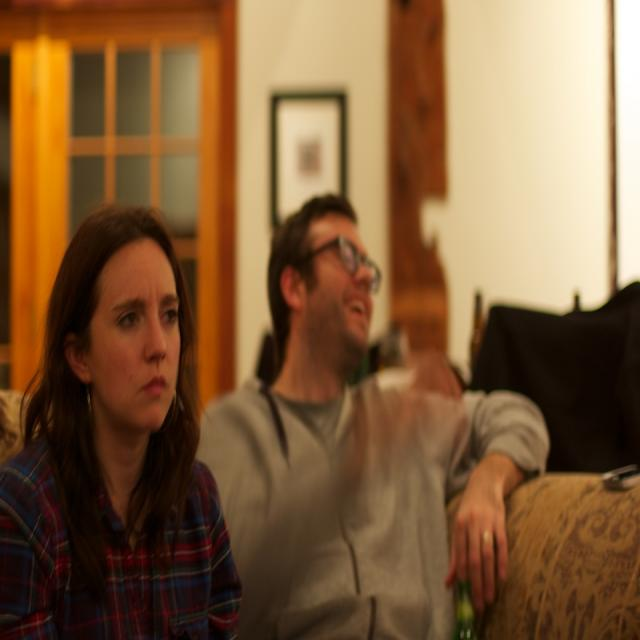Glasses: (308, 233, 381, 298)
